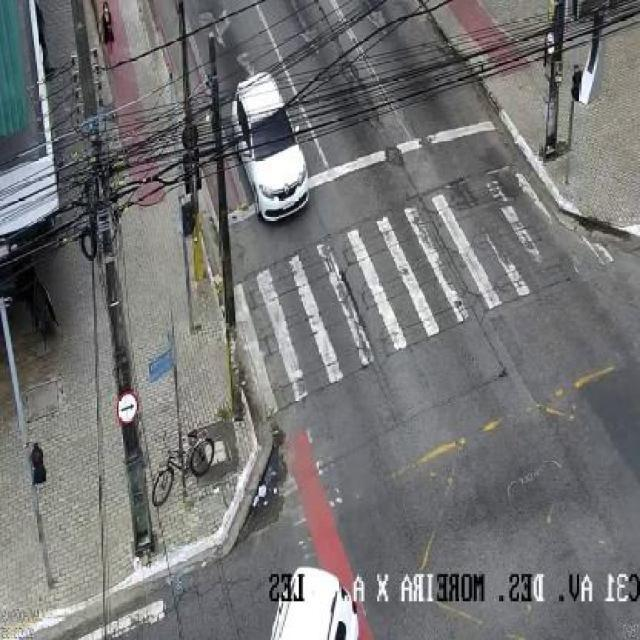Car: (230, 72, 310, 223), (270, 566, 362, 640)
Cycle: (148, 430, 216, 510)
